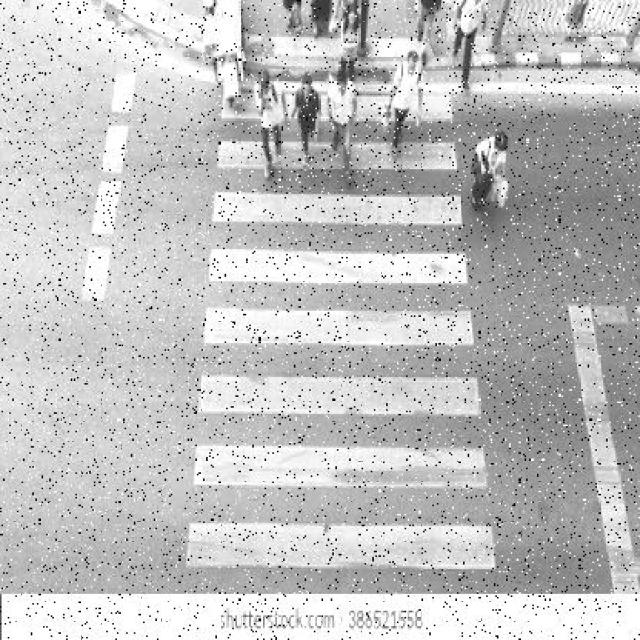intact_crosswalk: (179, 138, 500, 571)
